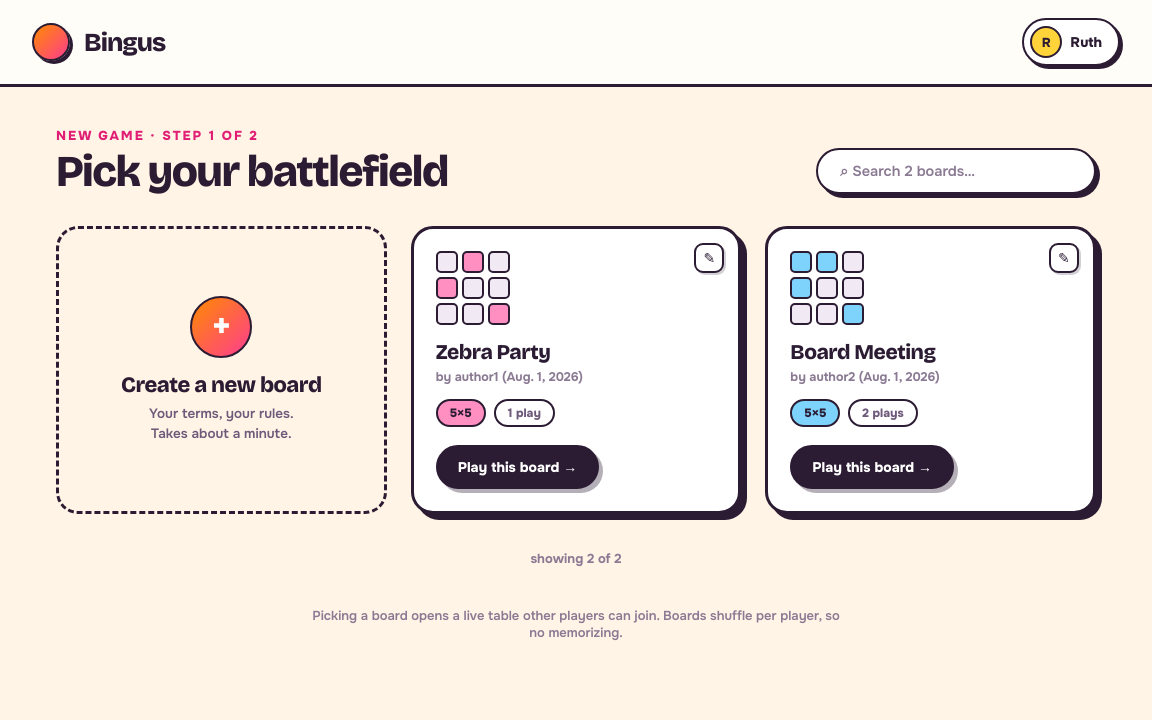
board archive › search fetches with the search param after the debounce
Expected: the heading "Zebra Party" is shown, x1=436 y1=339 x2=550 y2=365
Type "zebra" into the search field named "Search boards". click: x=956, y=171
box: x1=816 y1=148 x2=1096 y2=194
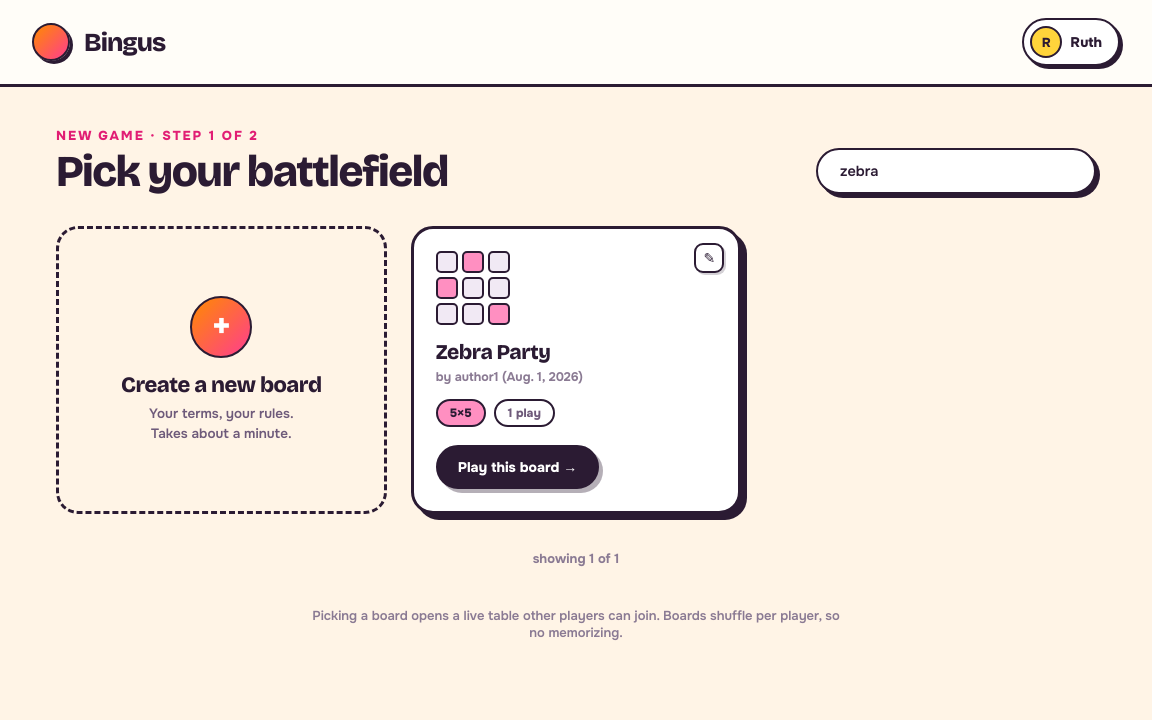
Result: the text "showing 1 of 1" is shown at x1=533 y1=550 x2=619 y2=567
Result: the heading "Board Meeting" is gone
